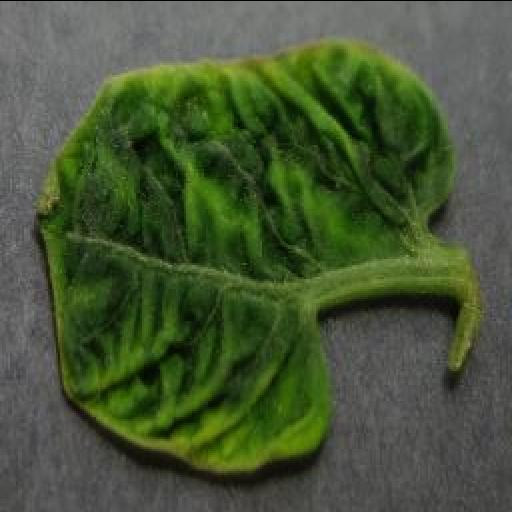disease_tomato: (34, 34, 458, 470)
